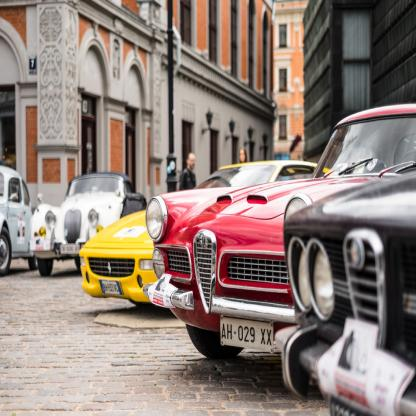Car: (142, 106, 416, 360), (80, 162, 332, 309), (274, 162, 416, 416), (30, 174, 148, 278), (1, 163, 39, 279)
